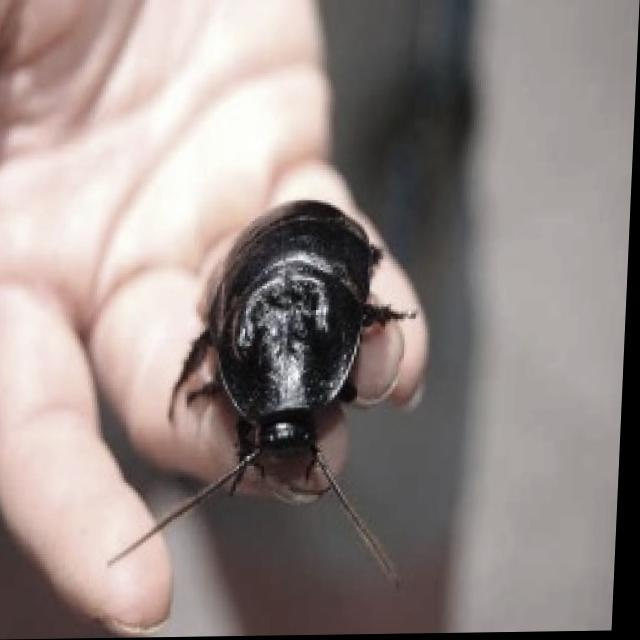cockroach: (102, 195, 422, 593)
